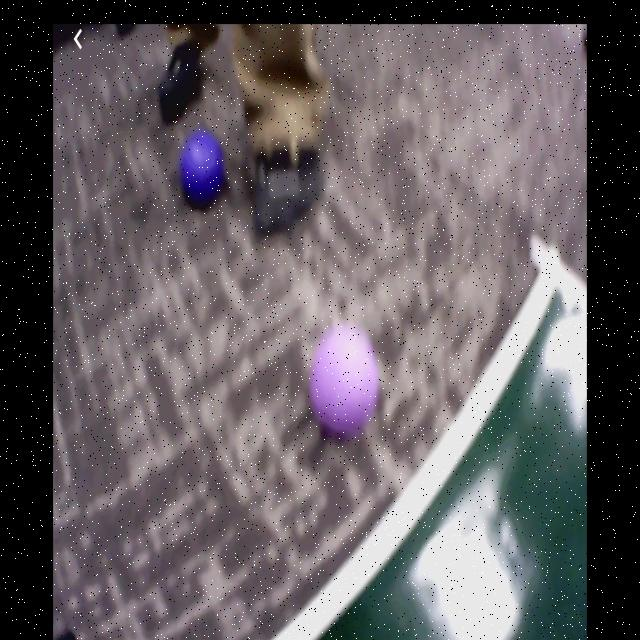ball: (310, 325, 377, 430), (182, 131, 226, 203)
